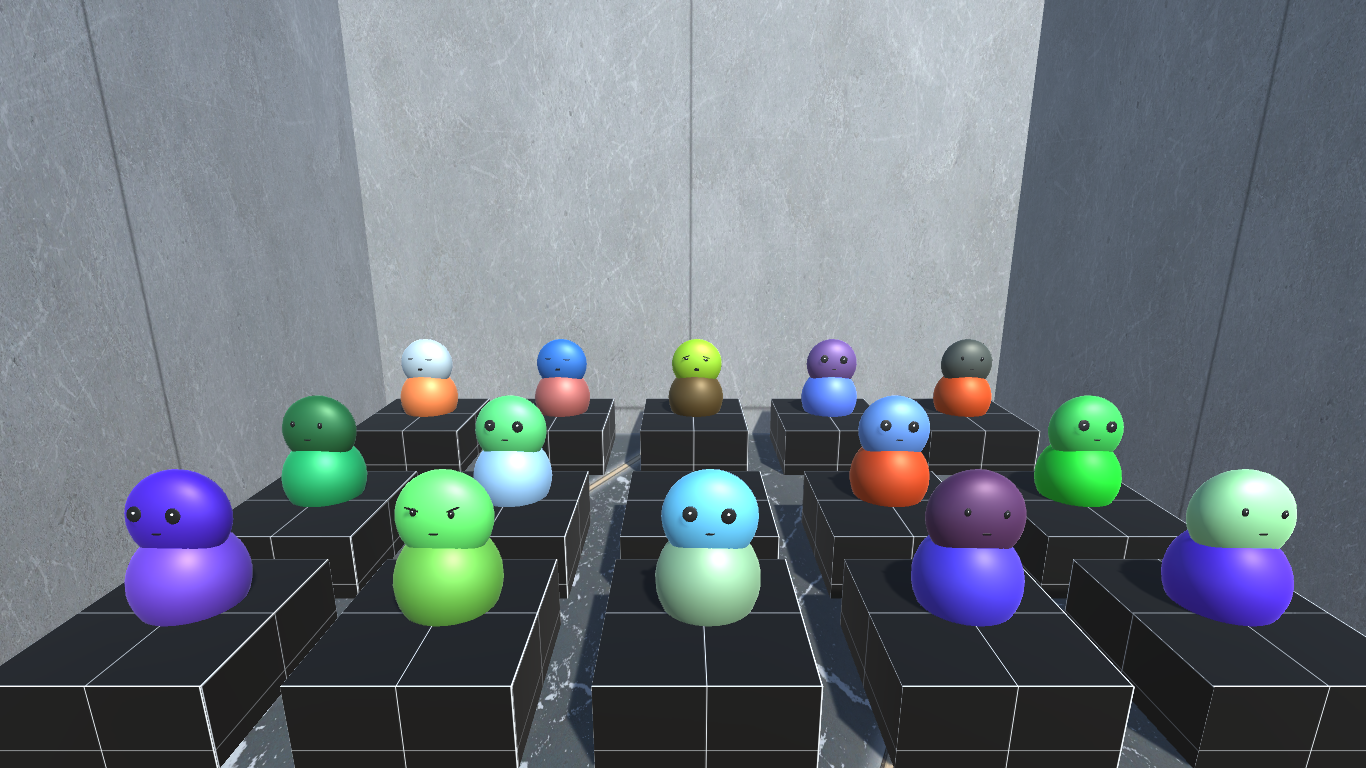blob_atento: (121, 471, 249, 615), (656, 465, 762, 629), (1029, 389, 1127, 514), (472, 392, 555, 510), (857, 395, 932, 512), (798, 339, 862, 422)
blob_dormindo: (533, 340, 595, 421), (398, 336, 457, 417)
blob_entediado: (666, 340, 728, 426)
blob_normal: (1169, 466, 1292, 630), (913, 467, 1030, 630), (282, 395, 373, 513), (931, 338, 1001, 418)
blob_raiva: (389, 466, 509, 629)
